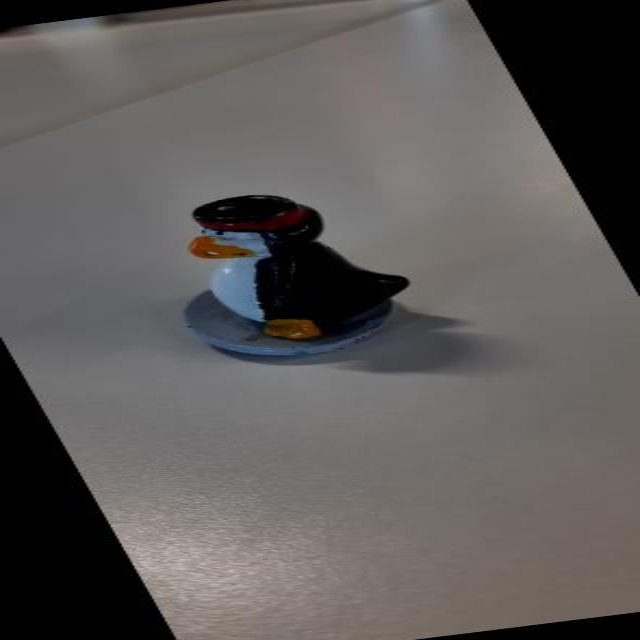Penguin: (84, 156, 468, 384)
